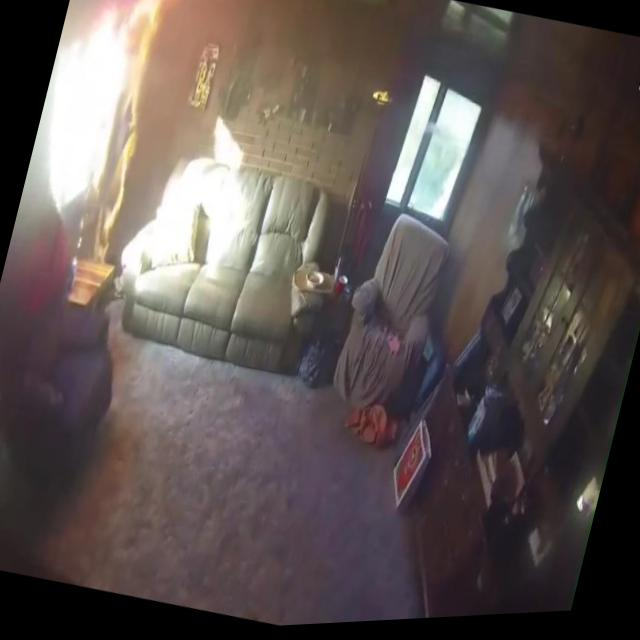fire: (63, 0, 177, 270), (118, 0, 237, 15)
